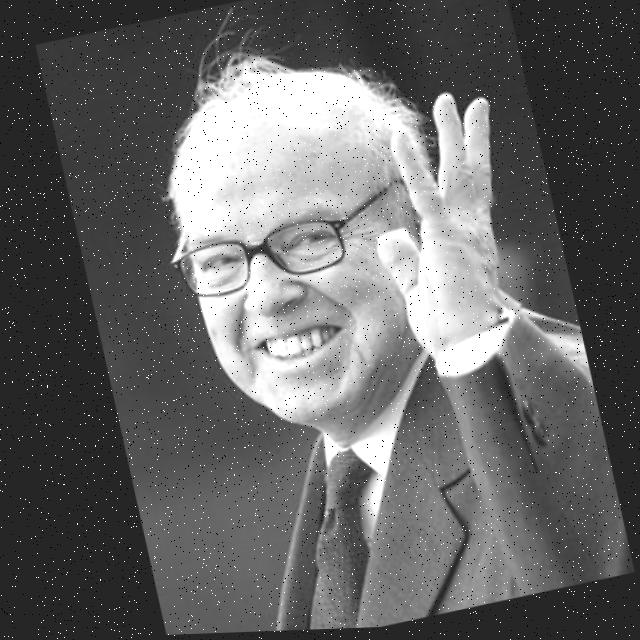face: (125, 75, 461, 473)
